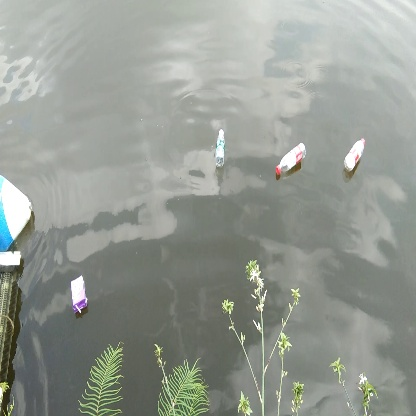bottle: (273, 141, 308, 181), (341, 135, 370, 174), (212, 127, 229, 168)
milk-box: (67, 274, 94, 317)
